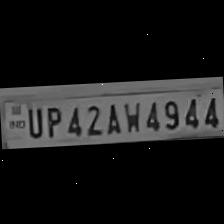2: (80, 100, 102, 134)
4: (62, 100, 84, 136), (178, 92, 200, 128), (140, 96, 160, 130), (198, 92, 218, 126)
9: (158, 95, 180, 129)
A: (100, 99, 122, 134)
P: (40, 102, 62, 136)
U: (22, 102, 44, 136)
W: (118, 97, 140, 133)
